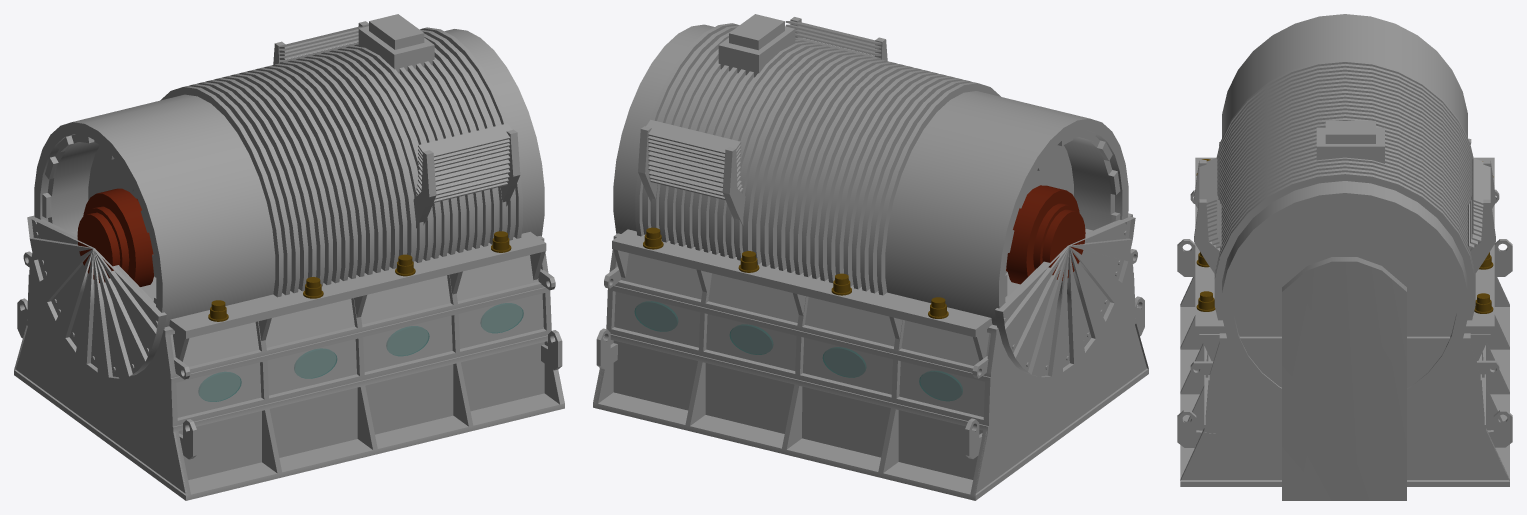
File: Generator.obj
3 renders of one model, left to right at view 1: azimuth 30°, elevation 25°; view 2: azimuth 150°, elevation 25°; view 3: azimuth 270°, elevation 25°, orthographic. The views are drawn at different scales.
Visible parts, largest first — view 1: 2; view 2: 2; view 3: 2.
Boxes of the visible parts, box(x1,y1,x2,y2) form: 2: box(14, 14, 564, 500); 2: box(593, 14, 1148, 500); 2: box(1177, 14, 1512, 500).
Size of the model in its own units: 443 by 354 by 330.
